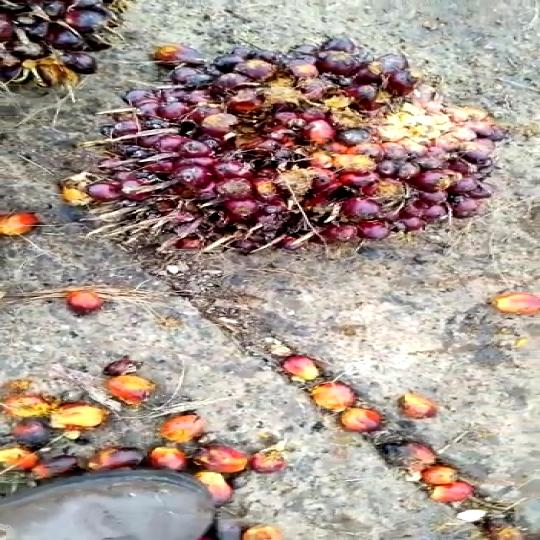masak: (61, 39, 506, 259)
